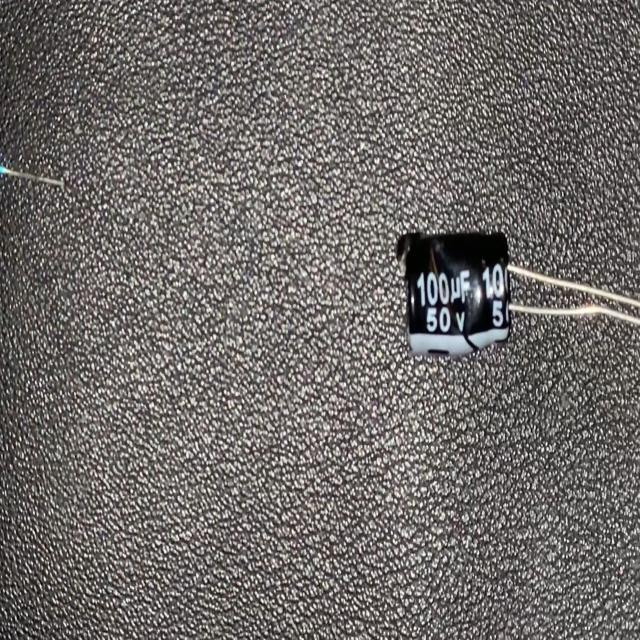capacitor: (391, 225, 640, 363)
cracked: (442, 268, 485, 351), (394, 231, 439, 279)
